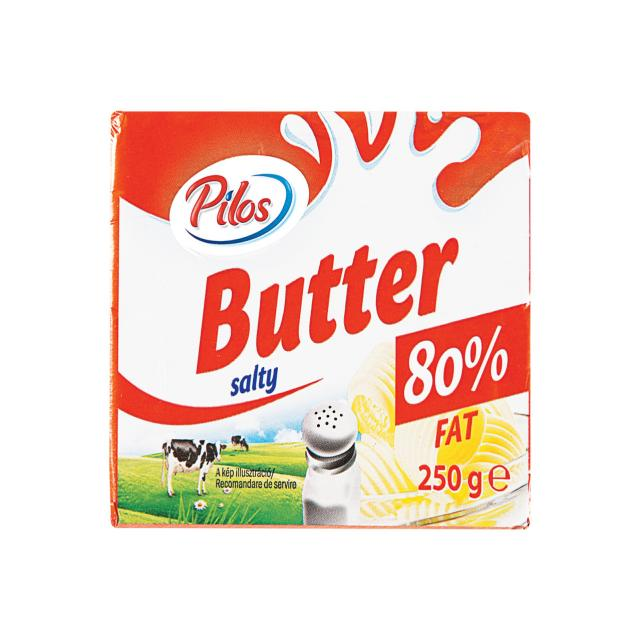butter: (106, 106, 534, 534)
